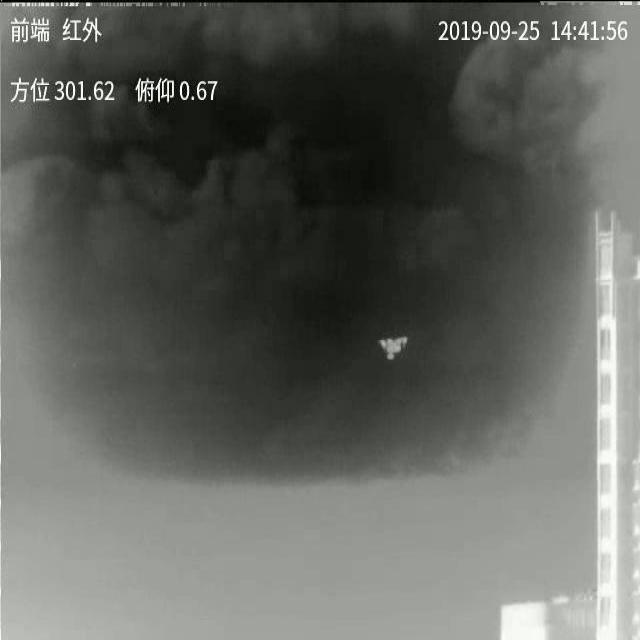drone: (377, 336, 408, 360)
